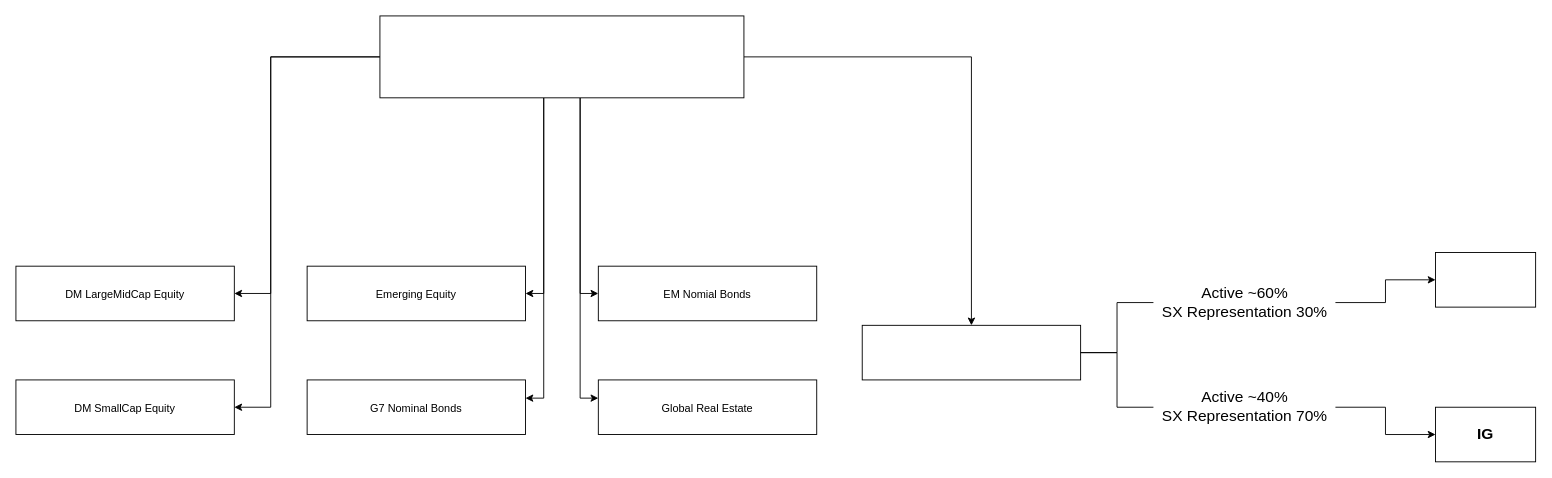
Image size: 1552x478. Some labels were removed from this diagram. Each missing label, with the centre of its shape:
Global Credit: the point at 971,352
HY: the point at 1485,279
Strategic Exposure Revierew: the point at 561,56
